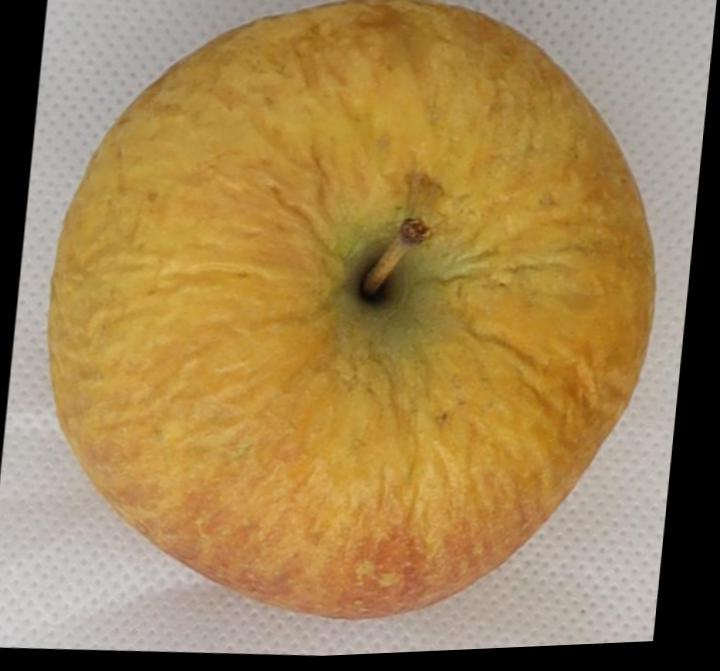apple: (48, 0, 653, 616)
rot_mold_decay: (48, 0, 653, 616)
